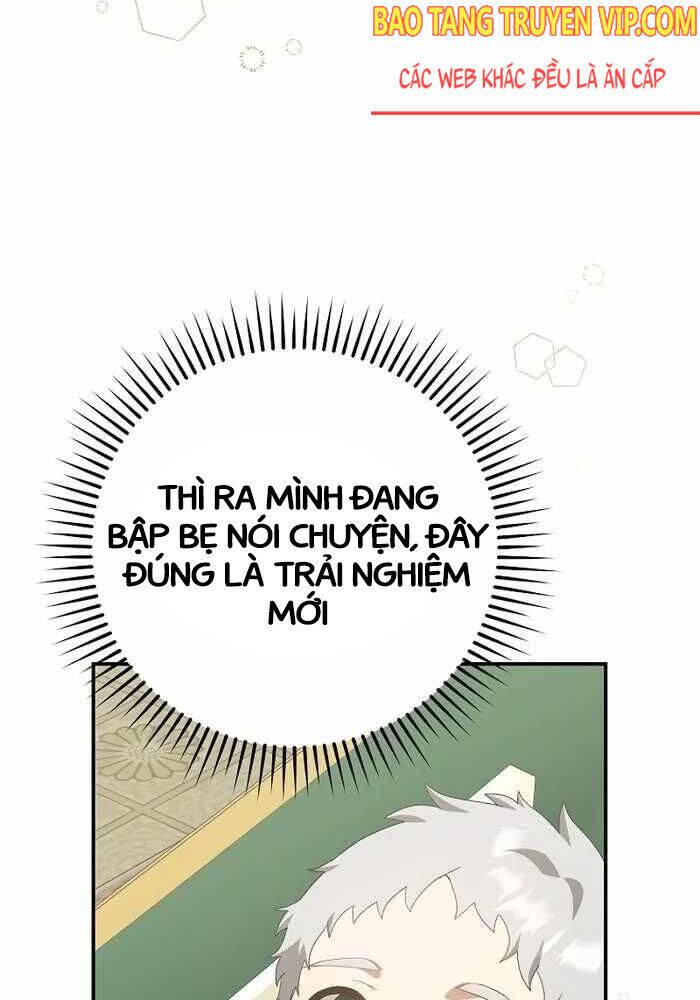quangcao: (367, 0, 700, 116)
